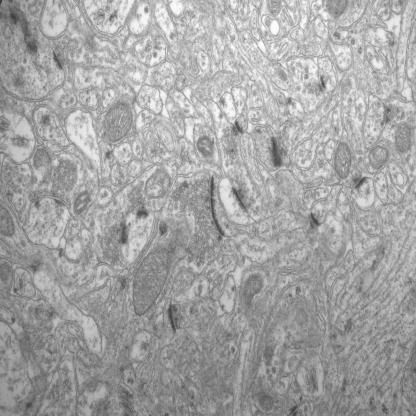mitochondria: (130, 239, 173, 316), (102, 101, 134, 144), (239, 270, 265, 310), (332, 139, 353, 183), (392, 118, 414, 156), (368, 142, 388, 175)
